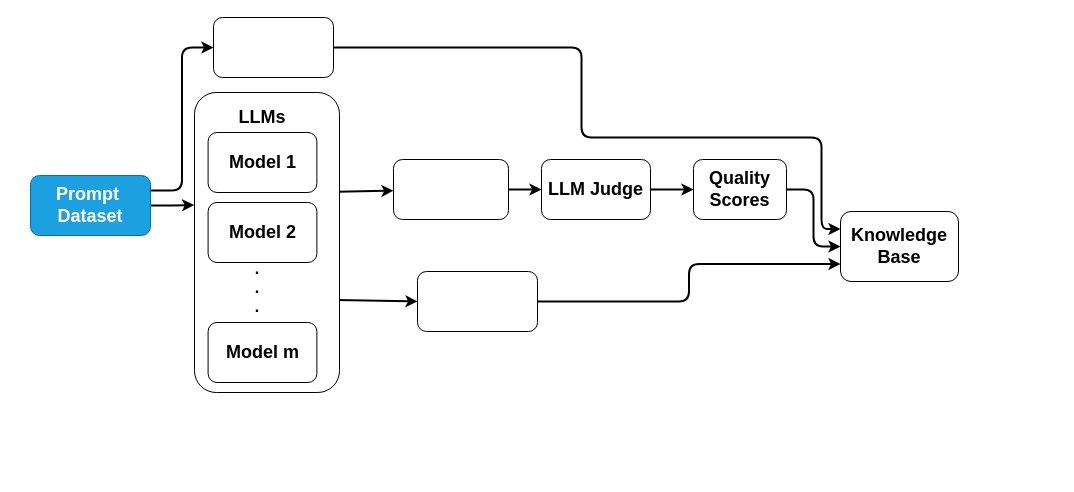
The diagram is 1074 pixels wide and 492 high, and some of its shapes have lost their labels. The centre of each missing label's shape, as x and y in pixels:
"Embedding Model" goes at (x=273, y=47).
"Latency and Token Count" goes at (x=477, y=301).
"Response Text" goes at (x=450, y=189).
